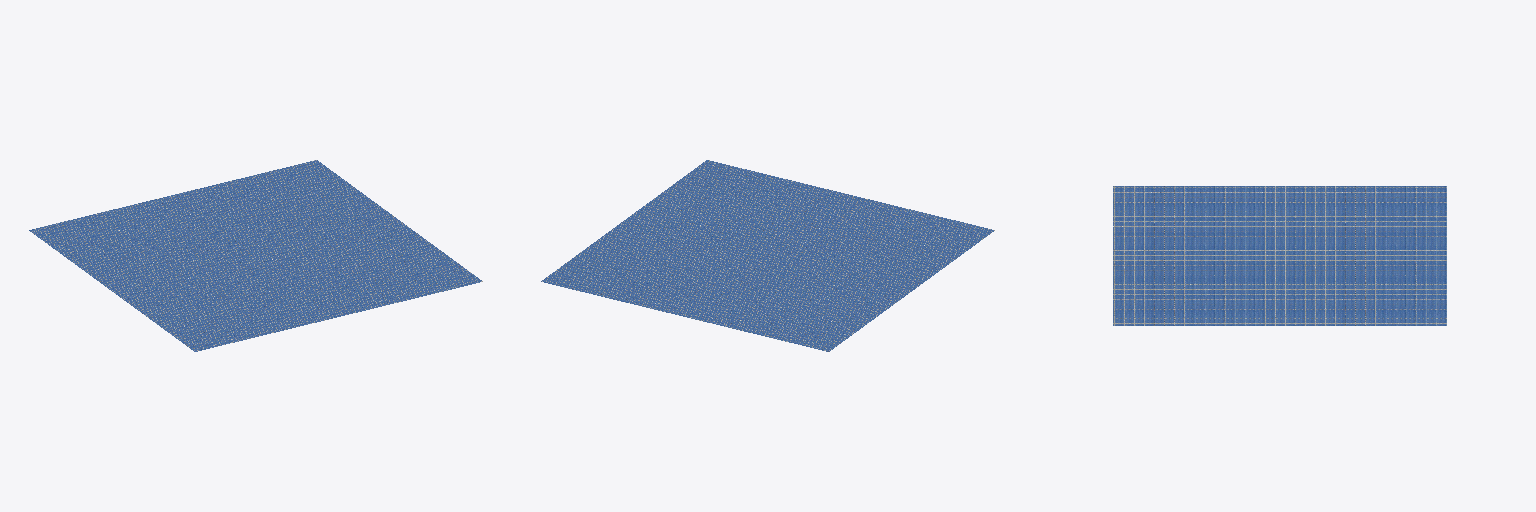
3 renders of one model, left to right at view 1: azimuth 30°, elevation 25°; view 2: azimuth 150°, elevation 25°; view 3: azimuth 270°, elevation 25°, orthographic.
Parts seen in each view (by area): view 1: Floor_Plane.000; view 2: Floor_Plane.000; view 3: Floor_Plane.000.
Part boxes in pixels (x1,y1,x2,y2): Floor_Plane.000: (29,160,482,351); Floor_Plane.000: (541,160,994,351); Floor_Plane.000: (1113,186,1446,325).
Bounding box in the file's own units: 1000 × 0 × 1000.
Materials: 1 (1 with a texture image).